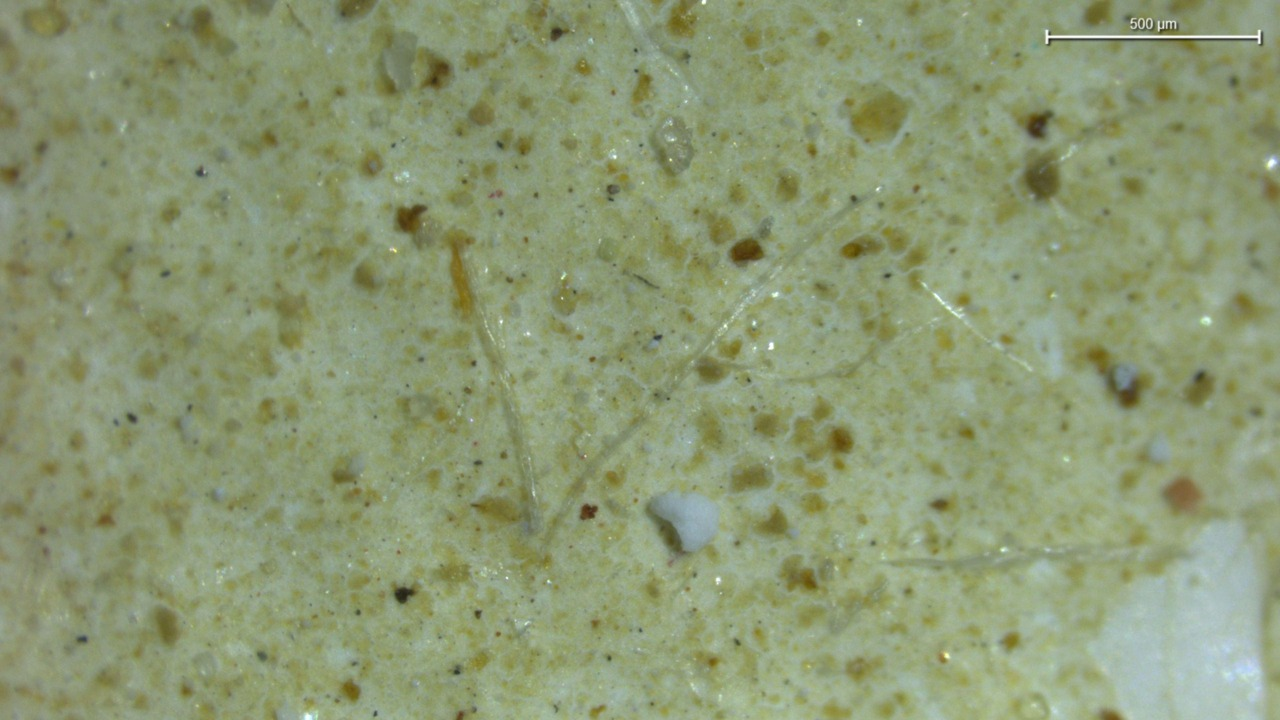microplastic_fragment: (650, 492, 719, 552), (650, 117, 694, 173), (382, 31, 417, 91)
